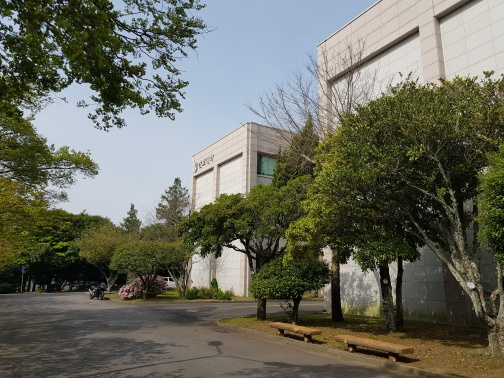College of Nursing: (182, 120, 275, 294)
